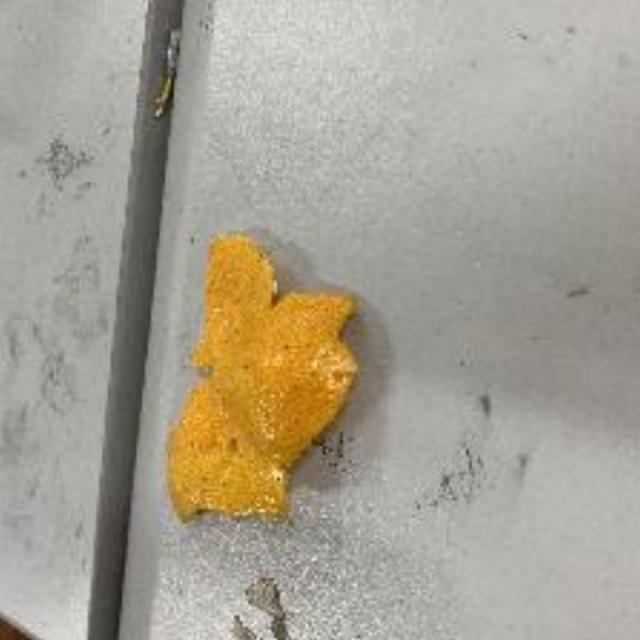orange peel: (162, 234, 354, 531)
